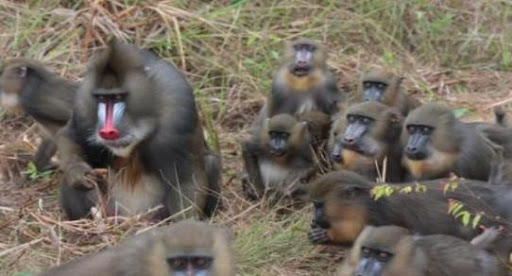Mandrill: (63, 45, 213, 218), (308, 173, 485, 242), (85, 225, 234, 275), (401, 108, 512, 174), (353, 226, 484, 276), (260, 38, 340, 118), (1, 62, 73, 149), (242, 121, 317, 196), (332, 111, 404, 169), (354, 74, 417, 114)
